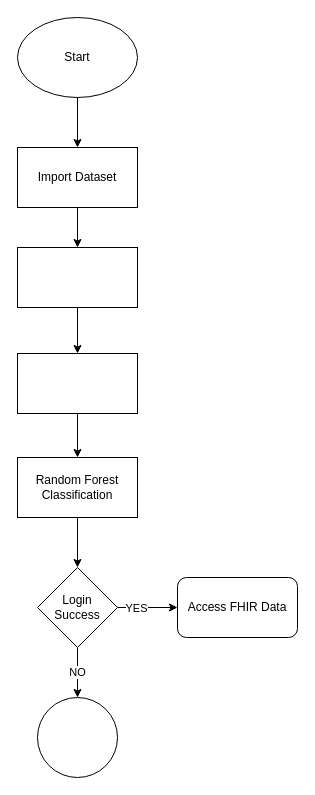
Some shapes in this 315 by 795 pixel diagram are drawn without their labels. The shapes that lost their labels are listed below. From the top down, each one's box as (x1, y1, x2, y2) in pixels, then its label:
(16, 246, 138, 308): Pre-processing
(16, 352, 138, 414): Importance Variable
(36, 696, 118, 778): End
